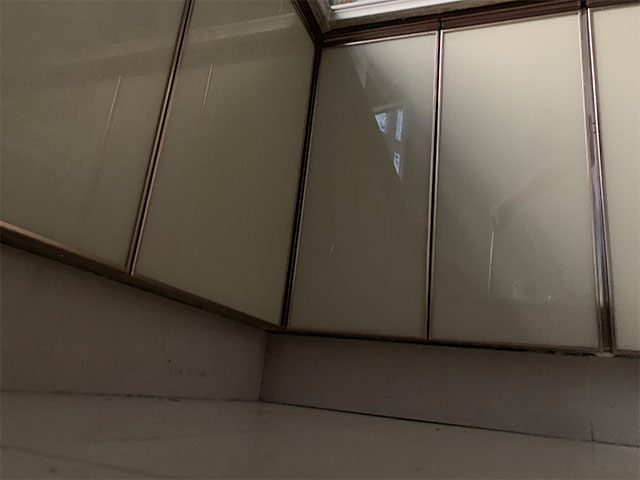cabinet: (289, 1, 640, 447), (1, 1, 318, 398)
